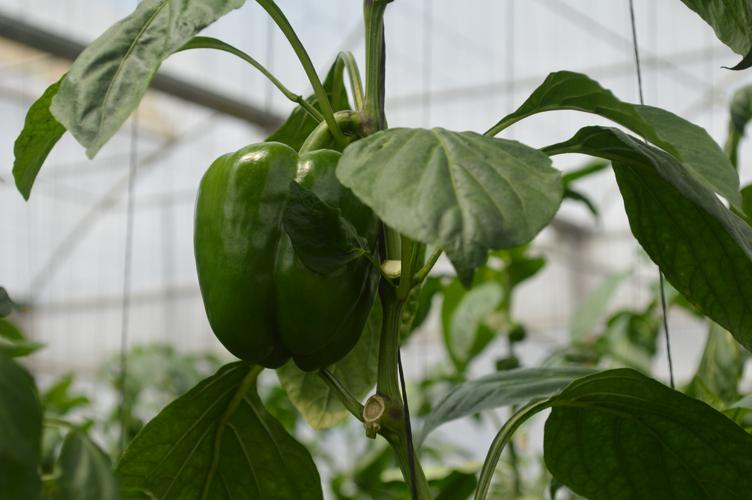BellPepper: (196, 143, 383, 372)
